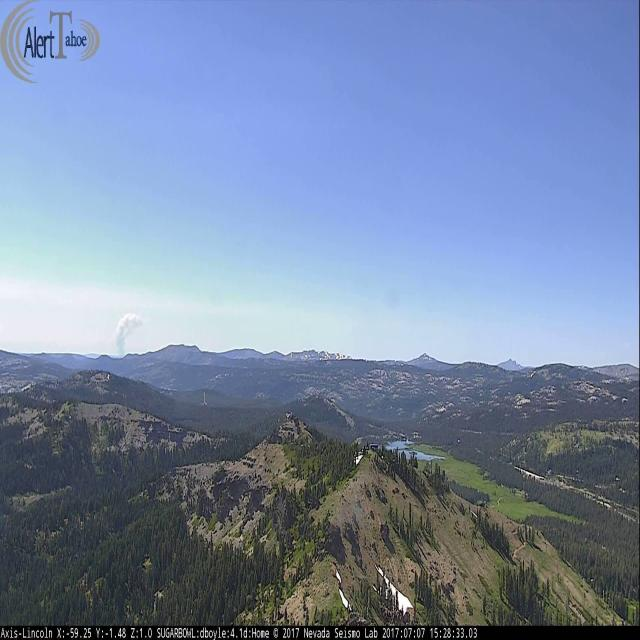smoke: (110, 309, 147, 358)
